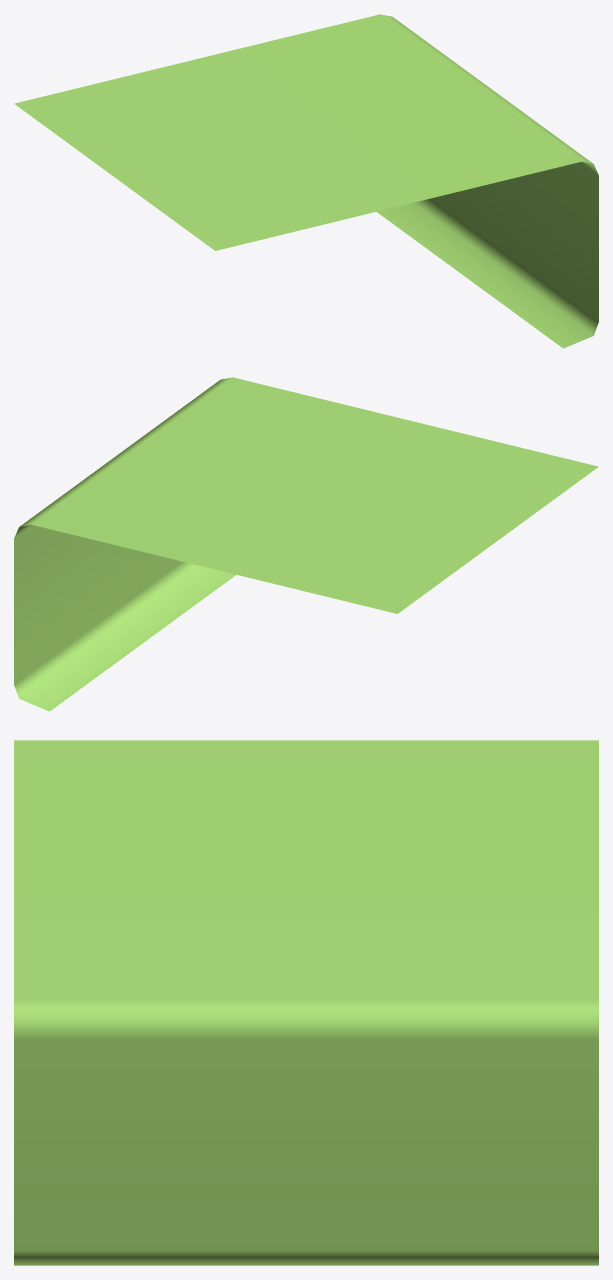
Rendered from Grass_Side.fbx.
3 views of the same model, one above another, from view 1: azimuth 30°, elevation 25°; view 2: azimuth 150°, elevation 25°; view 3: azimuth 270°, elevation 25° (orthographic). The views are drawn at different scales.
Parts seen in each view (by area): view 1: GrassSide; view 2: GrassSide; view 3: GrassSide.
Boxes of the visible parts, box(x1,y1,x2,y2) form: GrassSide: box(14, 14, 598, 348); GrassSide: box(14, 377, 598, 711); GrassSide: box(14, 740, 598, 1265).
Size of the model in its own units: 2.2 by 1 by 2.
